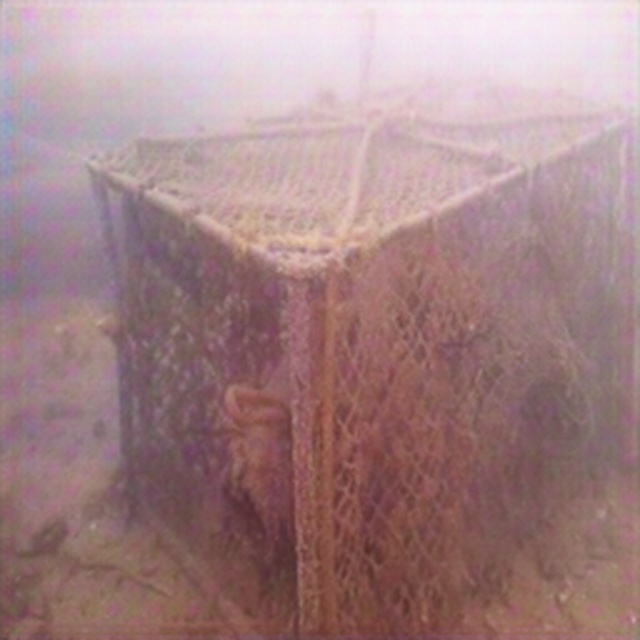mine: (84, 67, 640, 639)
